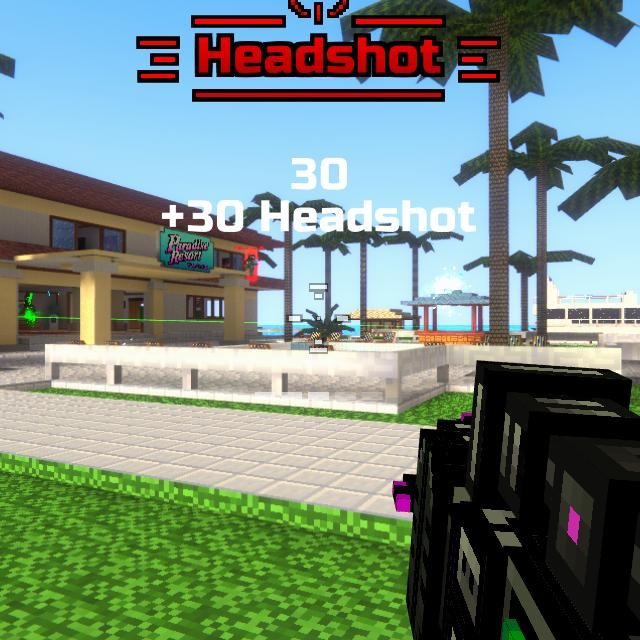Enemy: (244, 253, 258, 277)
